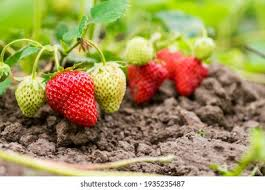ripe: (45, 65, 99, 128), (122, 55, 166, 105), (174, 53, 207, 96), (158, 47, 182, 81)
unripe: (83, 60, 126, 116), (13, 74, 47, 118), (123, 34, 156, 66), (0, 60, 9, 87)
